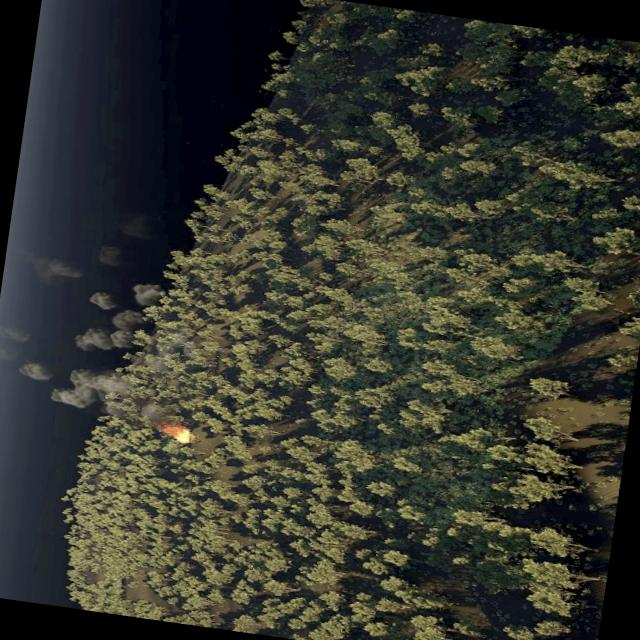fire: (164, 424, 194, 443)
smoke: (0, 229, 195, 431), (19, 249, 85, 284), (0, 322, 34, 369), (98, 244, 126, 266)
